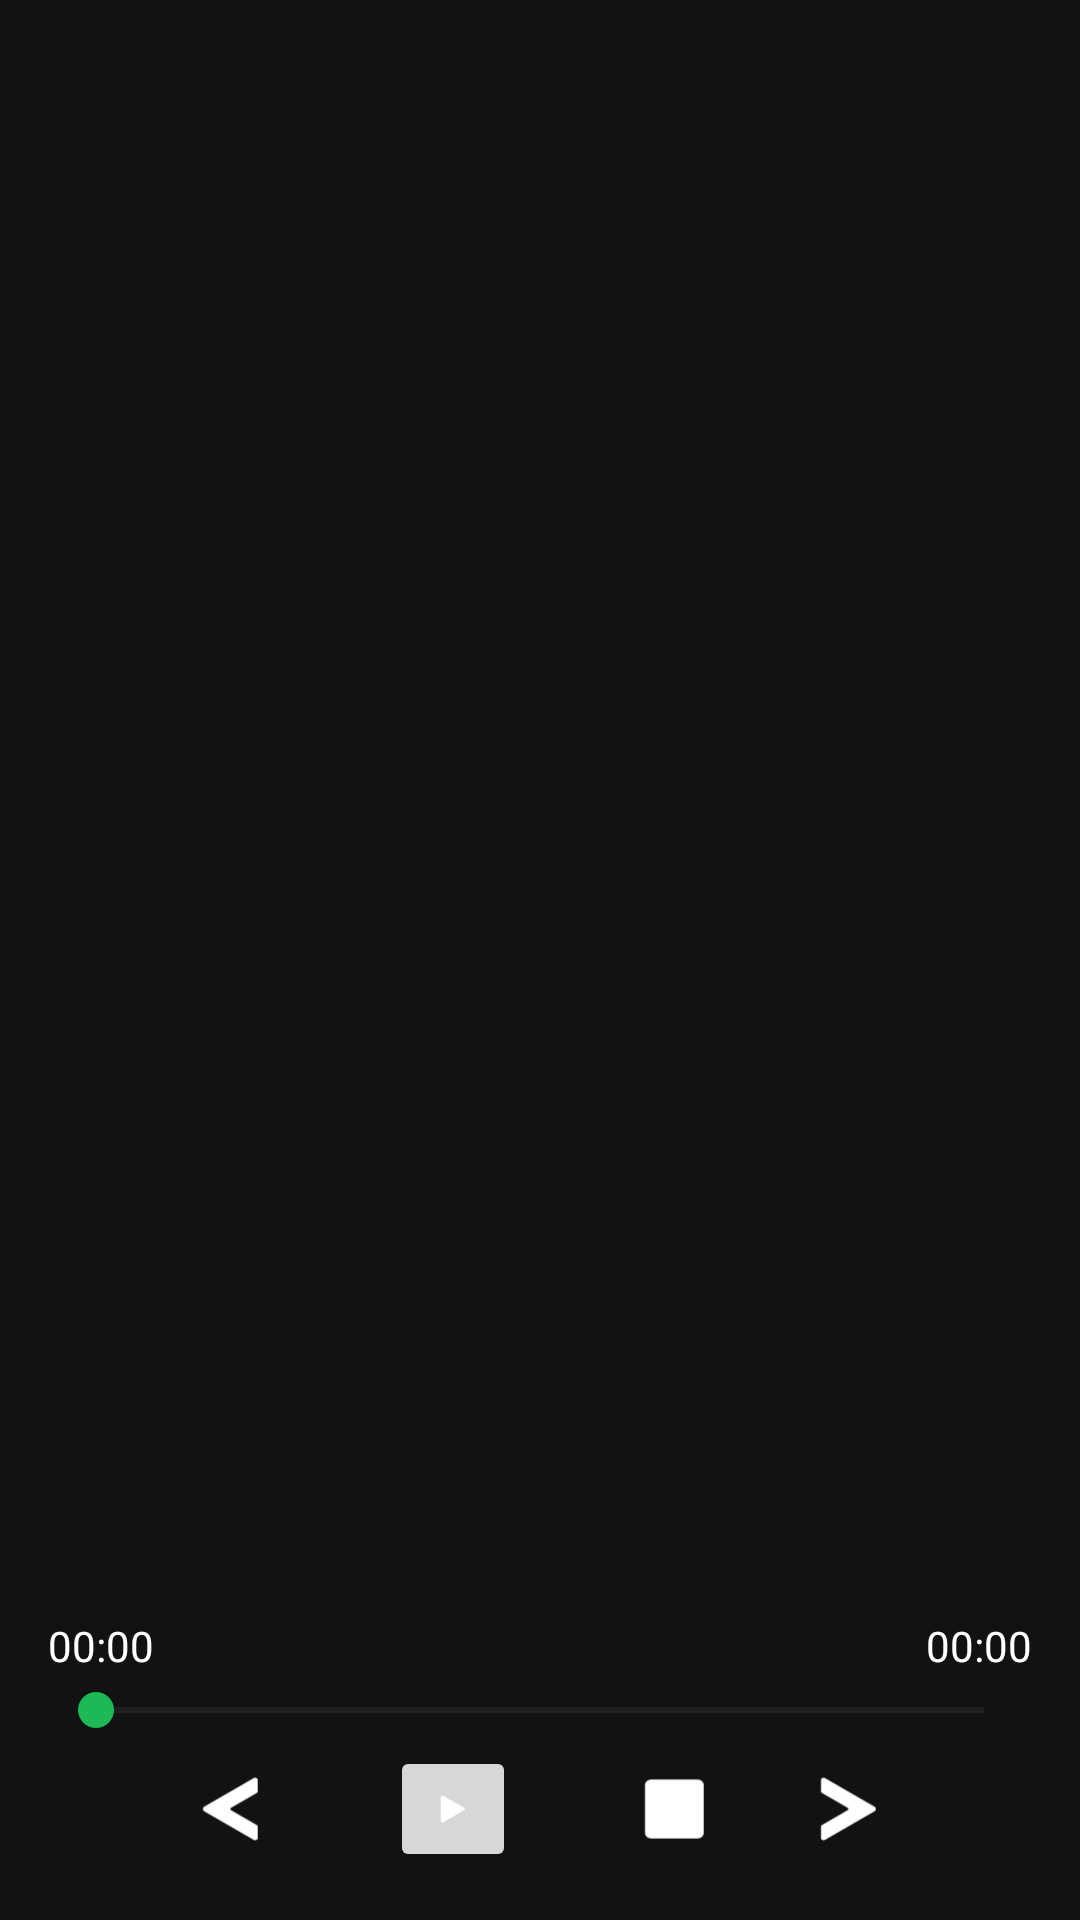

Point at icon controls on the screen. Image size 1080x1920, points as (x,y).
atras: (230,1809)
Avanzar 10 segundos: (848,1809)
Parar la reproducción: (674,1809)
